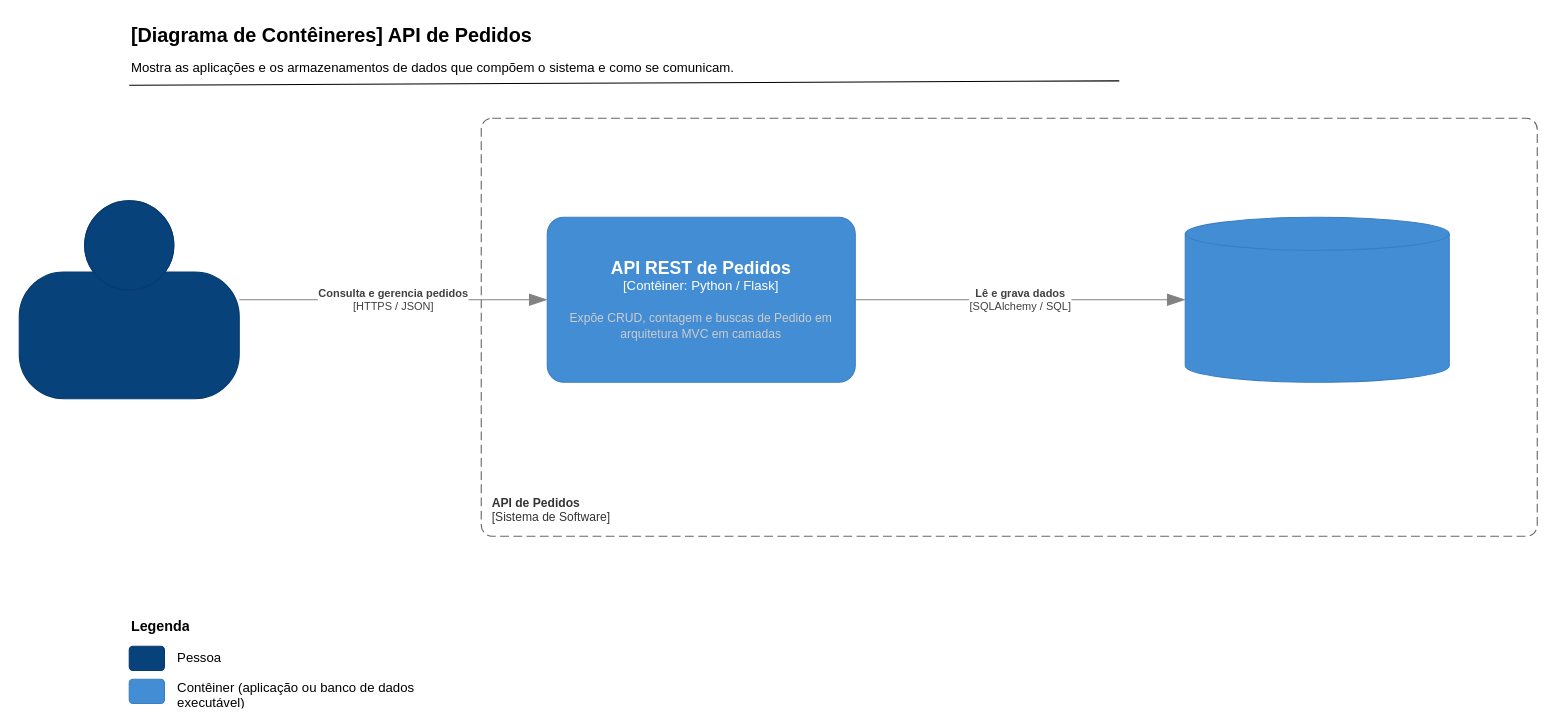
Image size: 1557x728. Some labels were removed from this diagram. The shapes that lost their labels are listed below. From the top down, each one's centre as x and y in pixels, then its label:
[128,299]: Parceiro Comercial [Pessoa] Empresa parceira que consome os dados de pedidos
[1316,299]: Banco de Dados [Contêiner: SQLite] Armazena os pedidos (arquivo pedidos.db)
